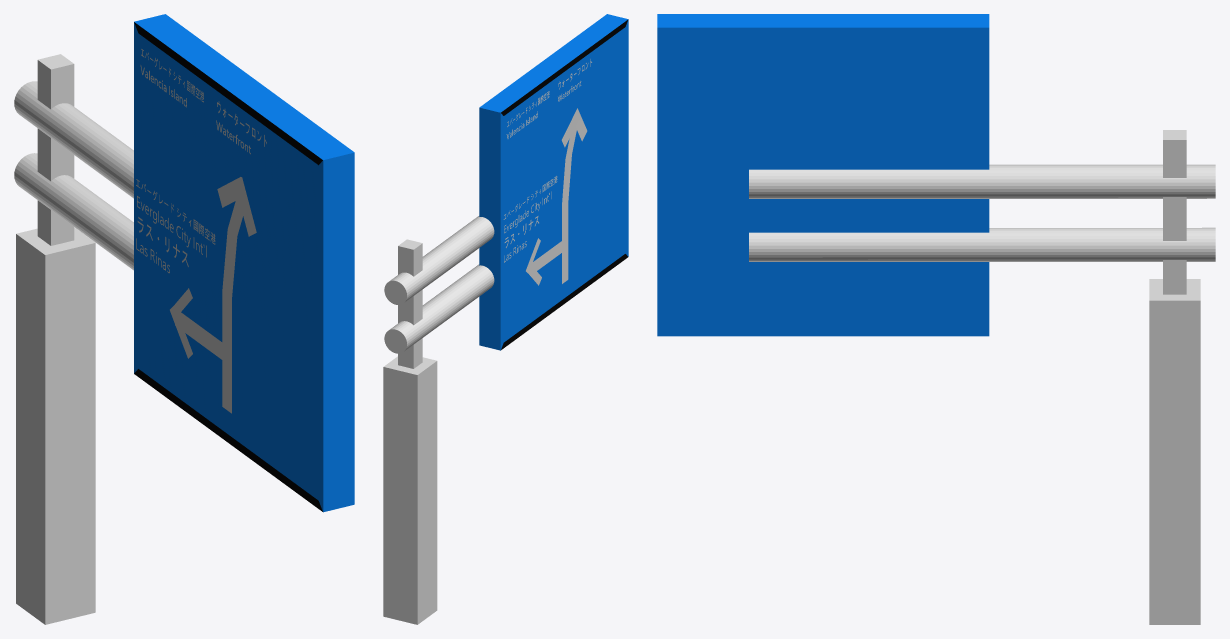
Rendered from japantown_sign_9.fbx.
The picture shows the model from 3 angles, left to right: view 1: azimuth 30°, elevation 25°; view 2: azimuth 150°, elevation 25°; view 3: azimuth 270°, elevation 25°; orthographic projection. The views are drawn at different scales.
Visible parts, largest first — view 1: Cube.003, Cube, Cylinder, Cylinder.001, Plane, Plane.001, Plane.005; view 2: Cube.003, Cube, Cylinder.001, Cylinder, Plane, Plane.001; view 3: Cube.003, Cube, Cylinder, Cylinder.001.
Boxes of the visible parts, box(x1,y1,x2,y2) form: Cube.003: box(134, 14, 354, 512); Cube: box(16, 54, 95, 624); Cylinder: box(14, 81, 133, 198); Cylinder.001: box(14, 153, 133, 270); Plane: box(222, 199, 243, 413); Plane.001: box(175, 309, 222, 359); Plane.005: box(217, 177, 245, 207); Cube.003: box(479, 14, 628, 350); Cube: box(383, 239, 437, 624); Cylinder.001: box(384, 264, 494, 353); Cylinder: box(384, 216, 494, 304); Plane: box(562, 127, 576, 283); Plane.001: box(531, 241, 561, 270); Cube.003: box(657, 14, 989, 336); Cube: box(1149, 130, 1200, 624); Cylinder: box(749, 164, 1215, 198); Cylinder.001: box(749, 227, 1215, 261).
Size of the model in its own units: 6.7 by 76.11 by 65.5.
